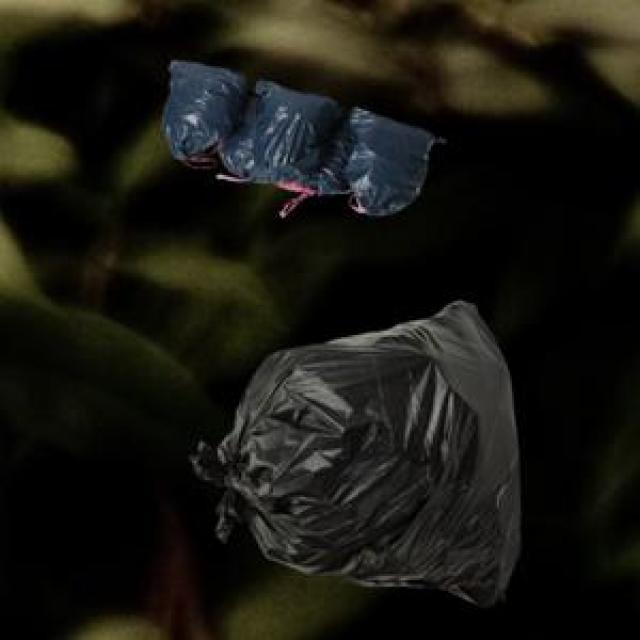Trashbag: (190, 298, 528, 610), (338, 109, 450, 219), (246, 76, 345, 187), (157, 55, 252, 164)
